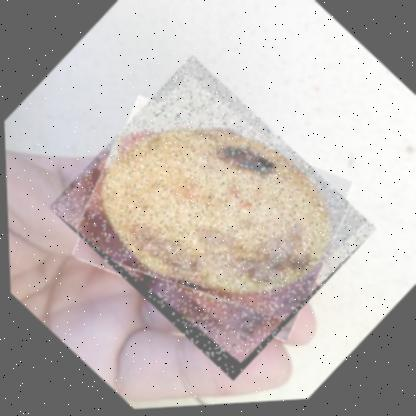guava_rotten: (41, 48, 379, 392)
